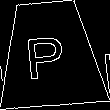P_N: (28, 27, 73, 81)
